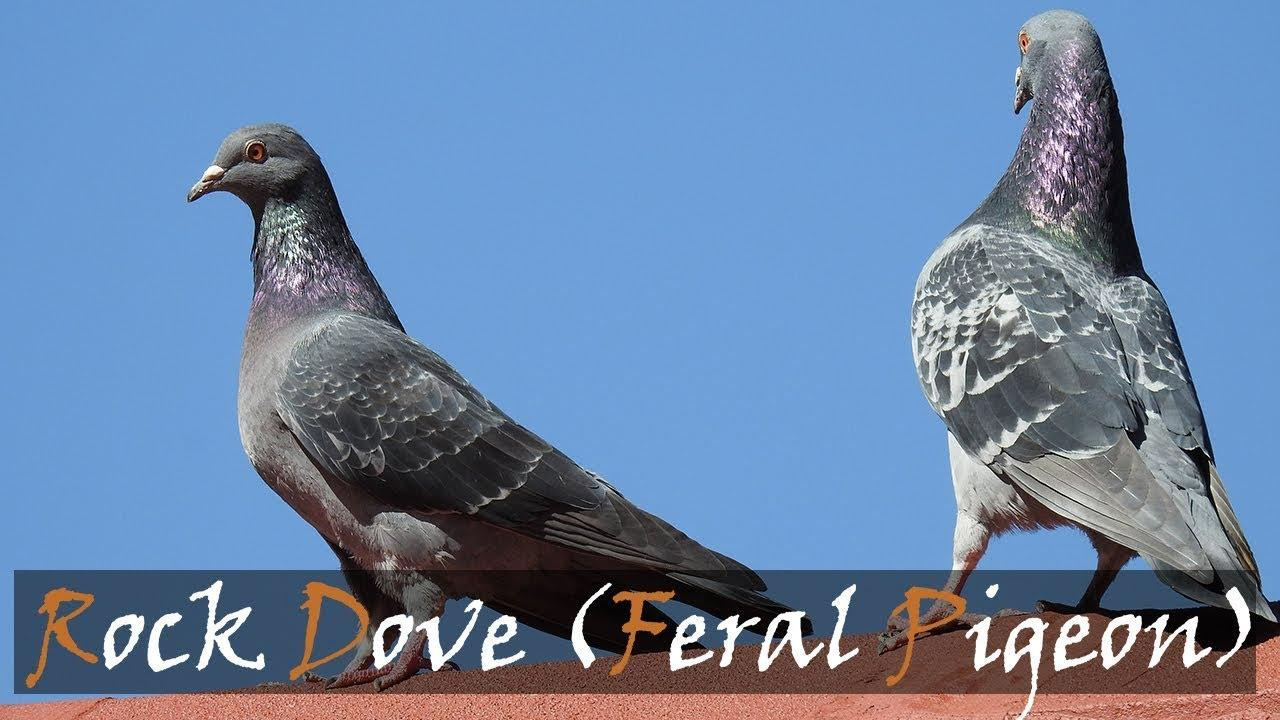Flying Rat: (185, 130, 765, 677), (940, 23, 1235, 684)
